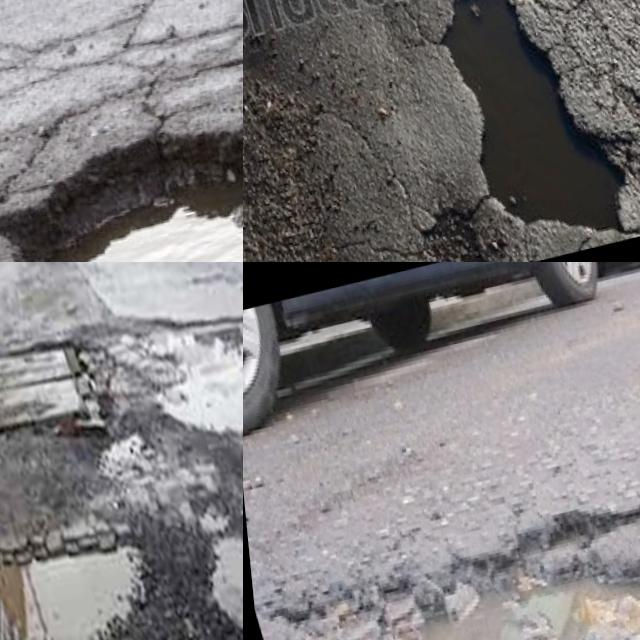Potholes: (243, 400, 640, 640), (356, 0, 640, 262), (0, 44, 243, 262), (75, 262, 243, 517), (0, 441, 175, 640), (0, 331, 116, 513), (143, 452, 243, 640)
